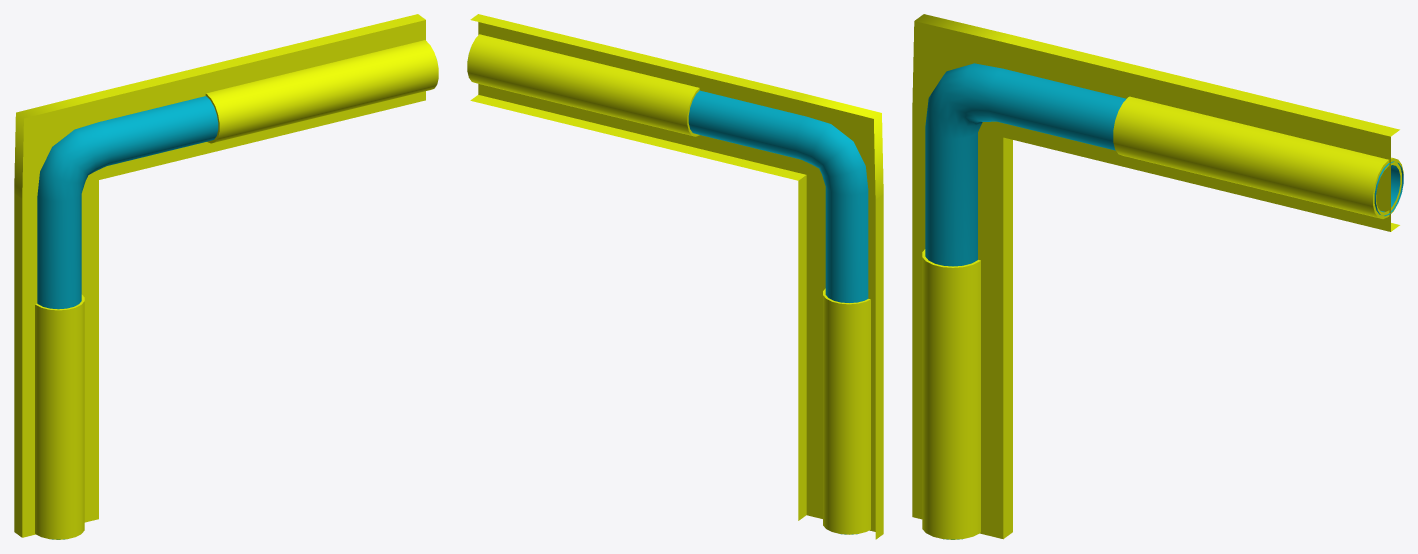
Rendered from env_st_energie_courbe.fbx.
3 views of the same model, side by side, from view 1: azimuth 30°, elevation 25°; view 2: azimuth 150°, elevation 25°; view 3: azimuth 330°, elevation 25° (orthographic). The views are drawn at different scales.
Parts seen in each view (by area): view 1: Energie Courbé; view 2: Energie Courbé; view 3: Energie Courbé.
Part boxes in pixels (x1,y1,x2,y2): Energie Courbé: (14,14,438,539); Energie Courbé: (467,14,883,539); Energie Courbé: (912,14,1403,539).
Bounding box in the file's own units: 96.27 × 95.54 × 10.73.
